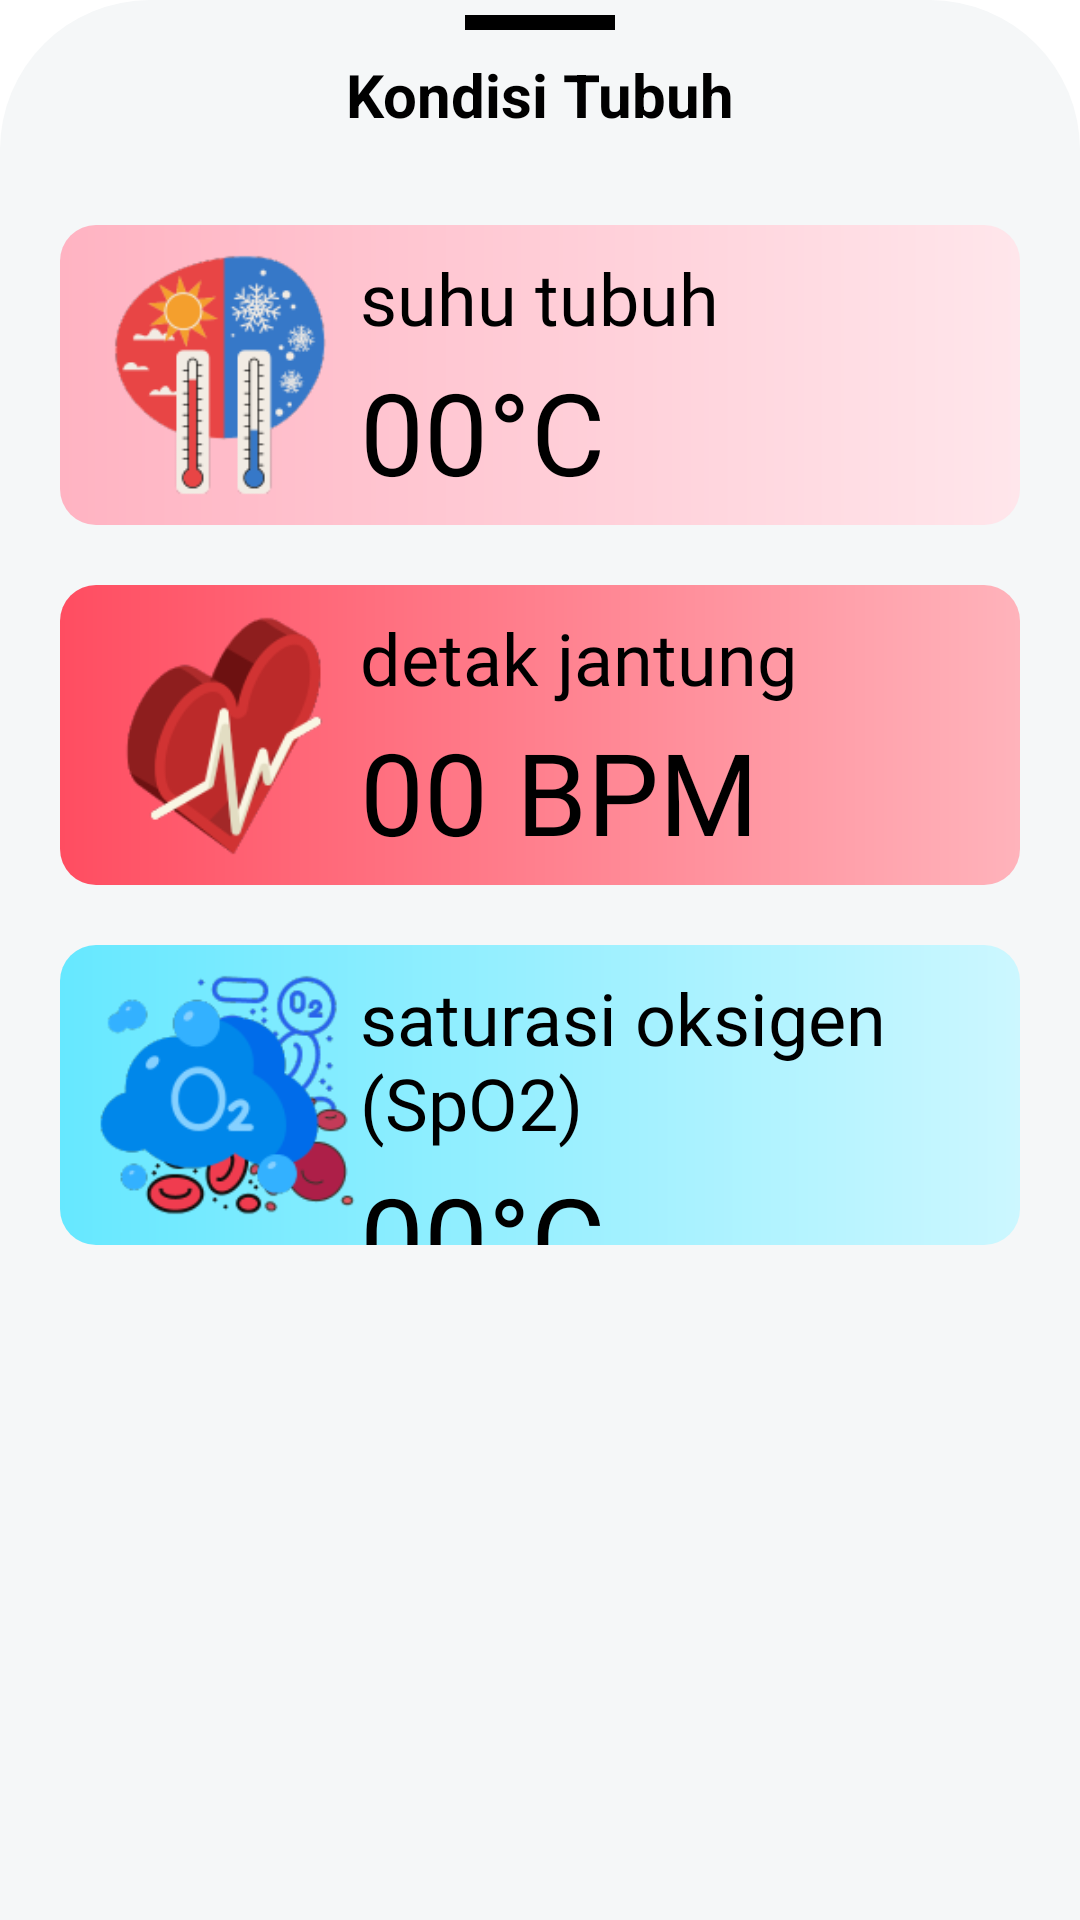

Icon click points for this 1080 x 1920 phone screenshot, format (x=x, y=y):
blood oxygen: (x=225, y=1095)
heart rate: (x=225, y=735)
temperature: (x=220, y=375)
